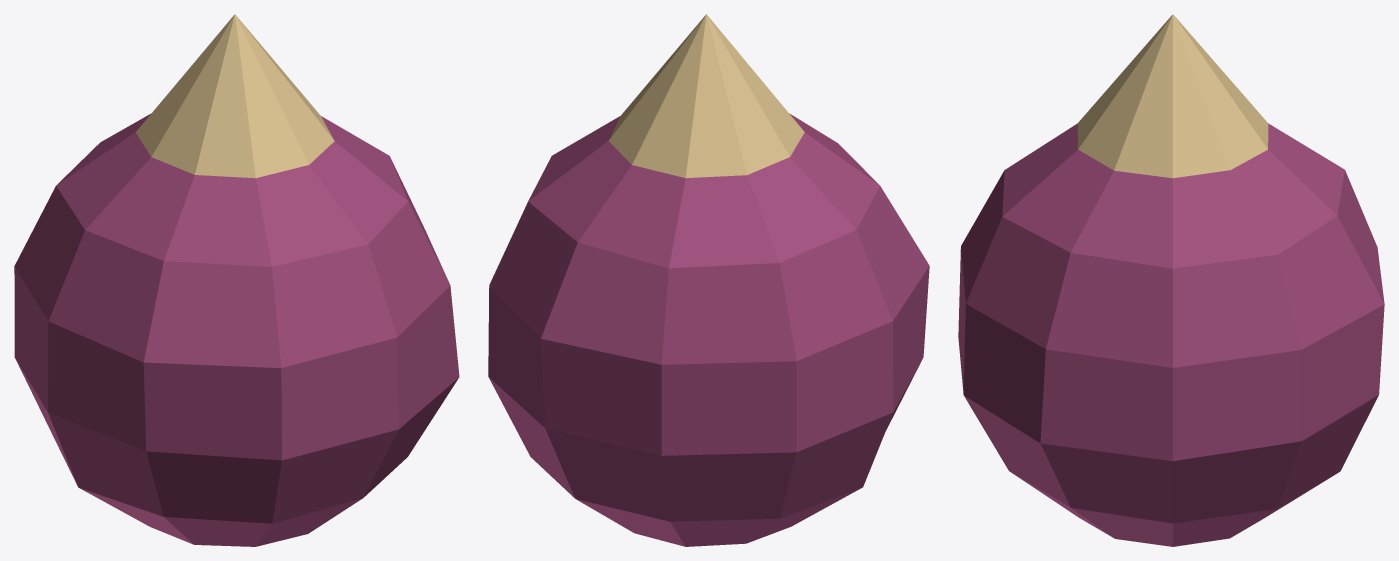
Rendered from Onion.obj.
The picture shows the model from 3 angles, left to right: view 1: azimuth 30°, elevation 25°; view 2: azimuth 150°, elevation 25°; view 3: azimuth 270°, elevation 25°; orthographic projection.
Parts seen in each view (by area): view 1: Onion; view 2: Onion; view 3: Onion.
Boxes of the visible parts, box(x1,y1,x2,y2) form: Onion: box(14, 14, 459, 546); Onion: box(488, 14, 929, 546); Onion: box(958, 14, 1384, 546).
Size of the model in its own units: 0.3117 by 0.4 by 0.3021.
